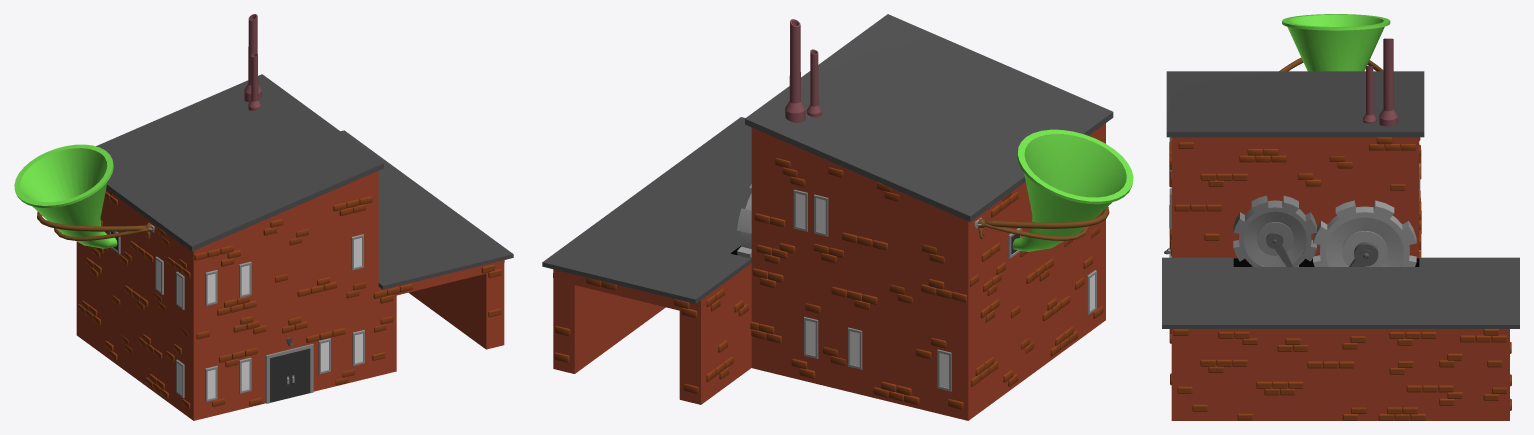
File: factory.fbx
3 renders of one model, left to right at view 1: azimuth 30°, elevation 25°; view 2: azimuth 150°, elevation 25°; view 3: azimuth 270°, elevation 25°, orthographic. The views are drawn at different scales.
Visible parts, largest first — view 1: Factory; view 2: Factory; view 3: Factory.
Part boxes in pixels (x1,y1,x2,y2): Factory: (14, 14, 513, 420); Factory: (542, 14, 1133, 420); Factory: (1162, 14, 1519, 420).
Size of the model in its own units: 2186 by 1564 by 1483.
